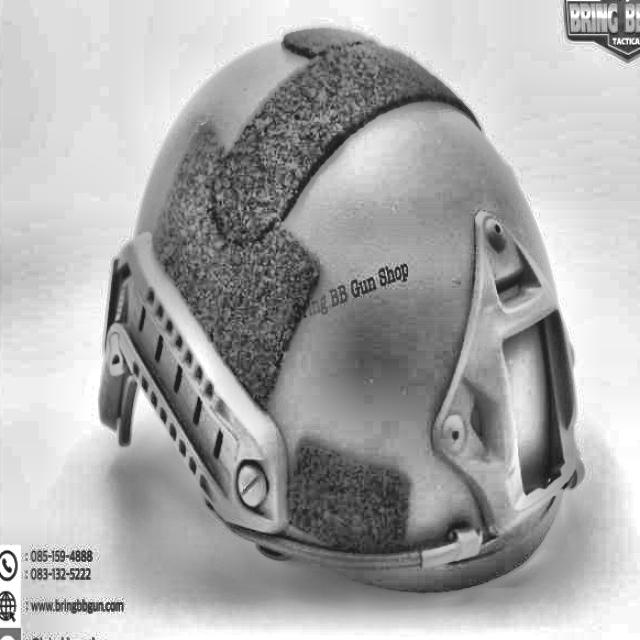Helmet: (92, 14, 592, 599)
